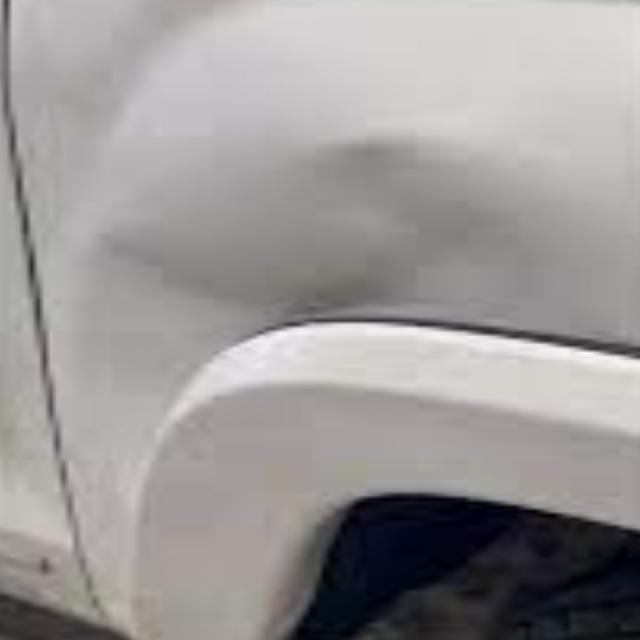dents: (204, 100, 630, 332)
